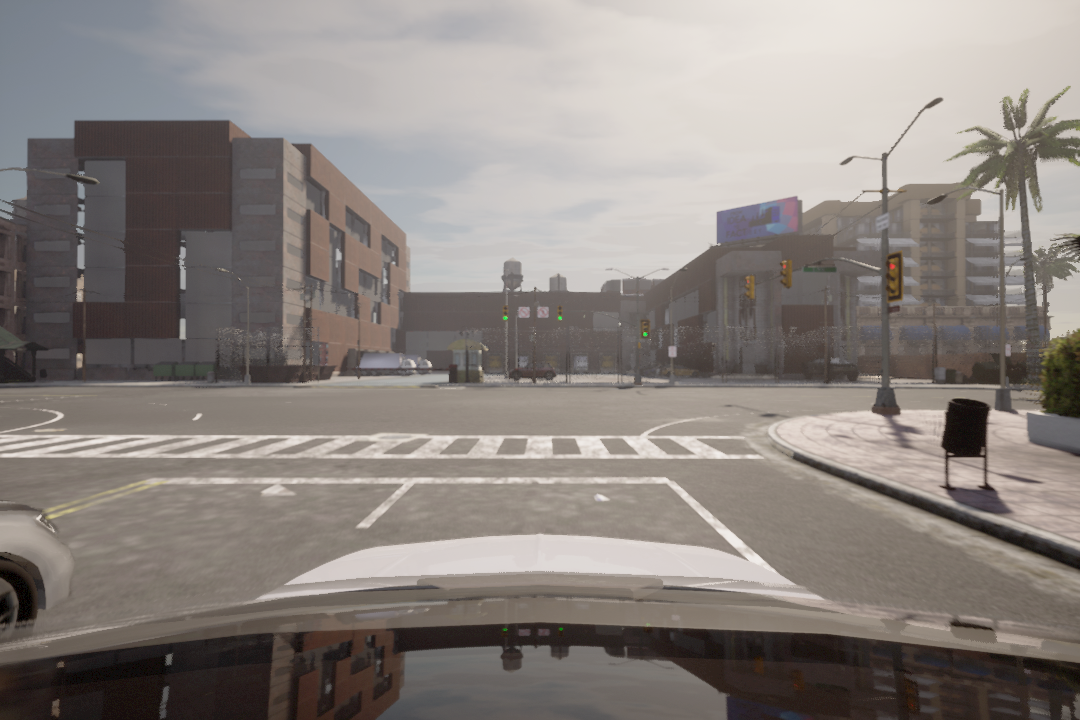TrafficLight: (887, 256, 904, 304), (778, 256, 792, 291), (744, 274, 757, 303), (638, 319, 651, 344), (555, 305, 566, 325), (500, 303, 511, 322)
walkside: (2, 431, 787, 470)
